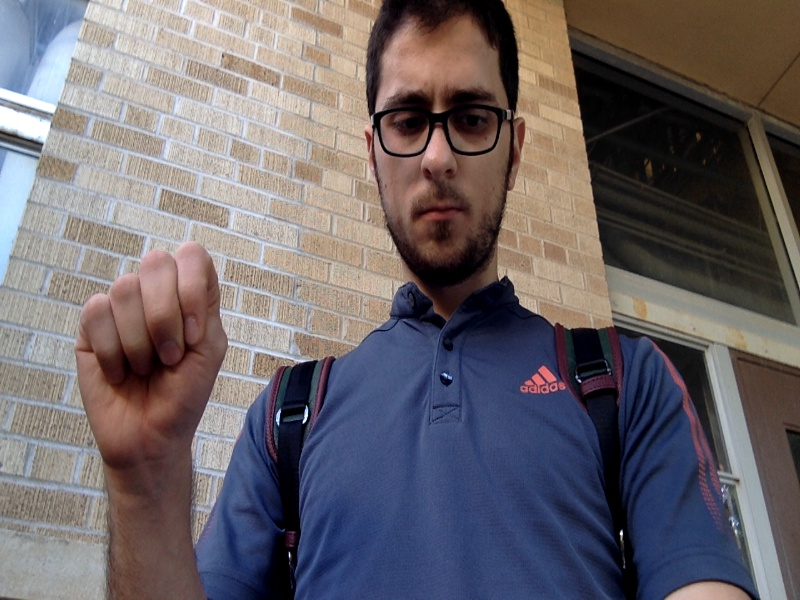0-hand: (76, 246, 229, 467)
